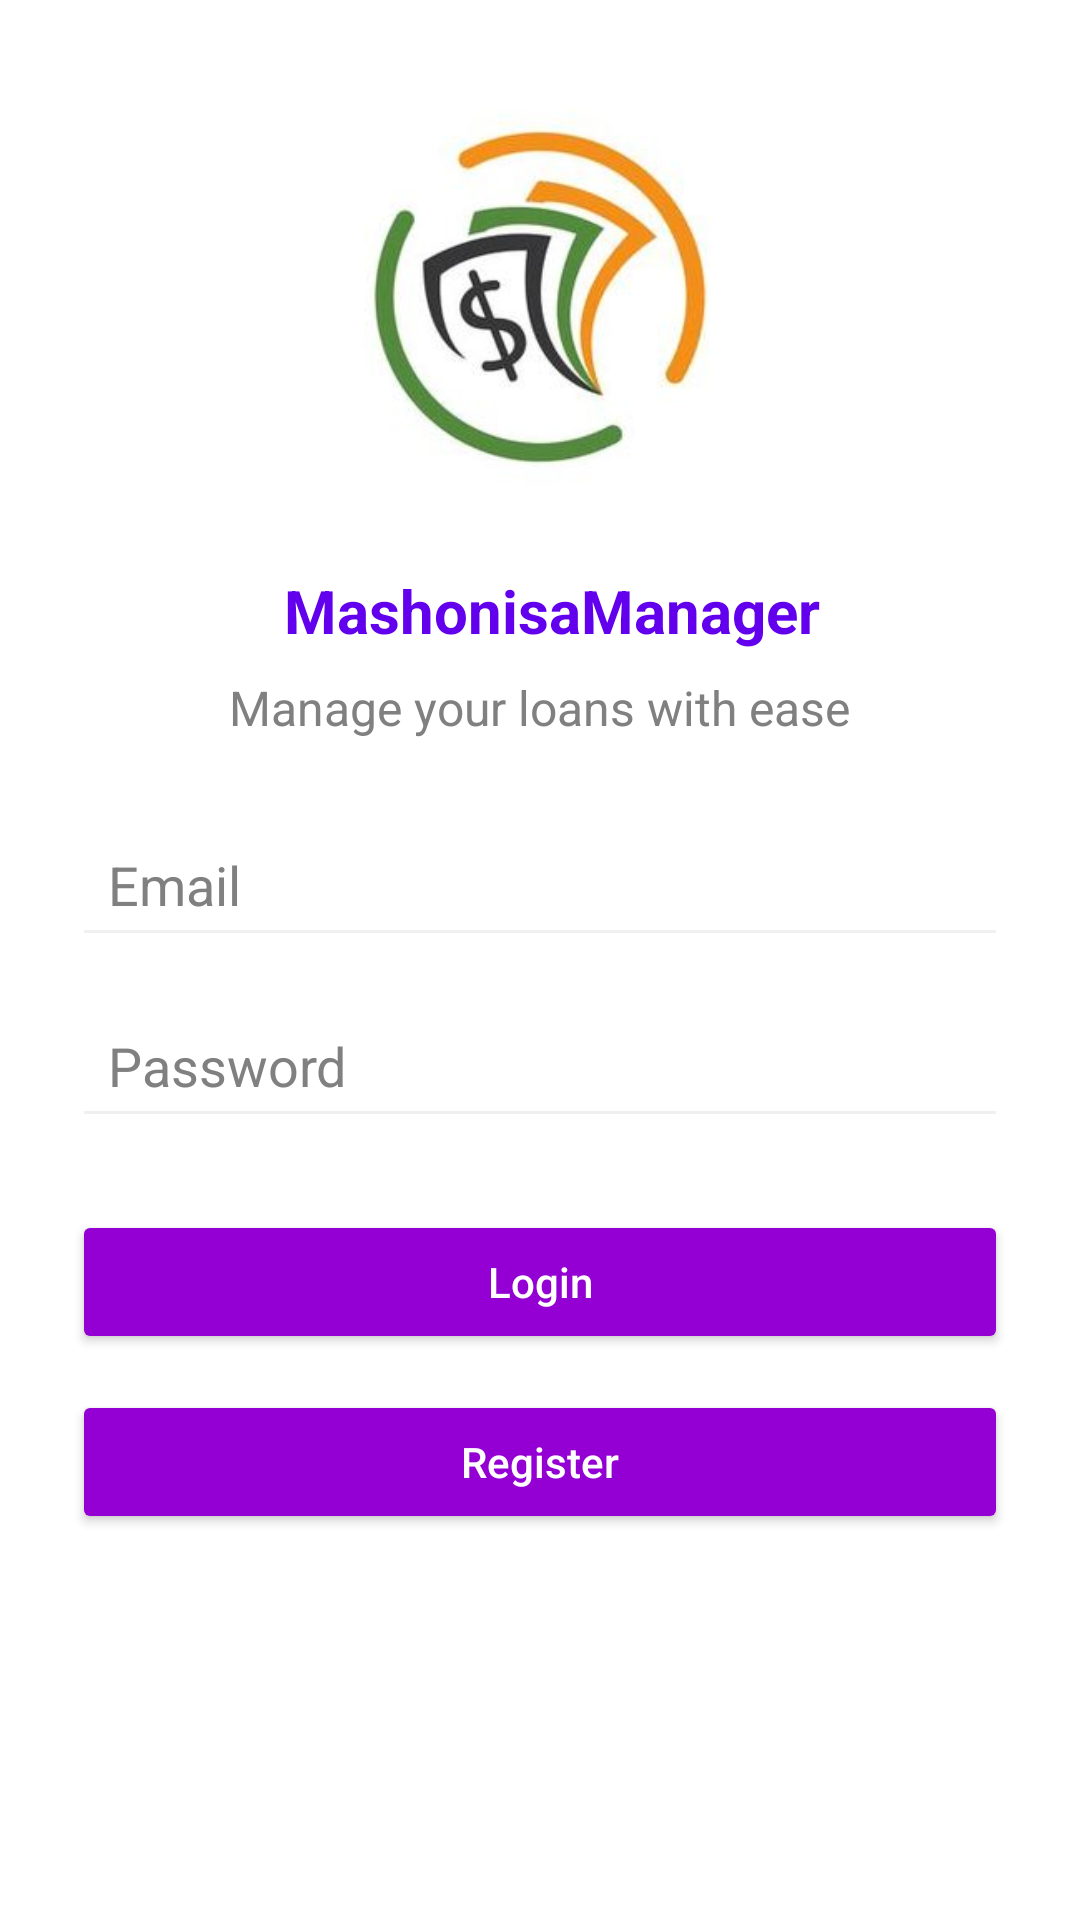

Where icons sit on this 1080×1920 app screen, as (x1, y1, x2, y2):
loanimage: (374, 130, 707, 463)
